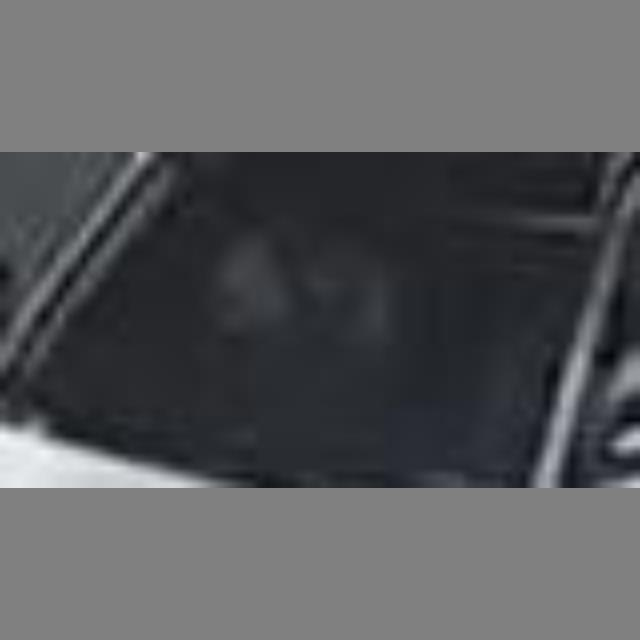pakai: (184, 208, 384, 392)
